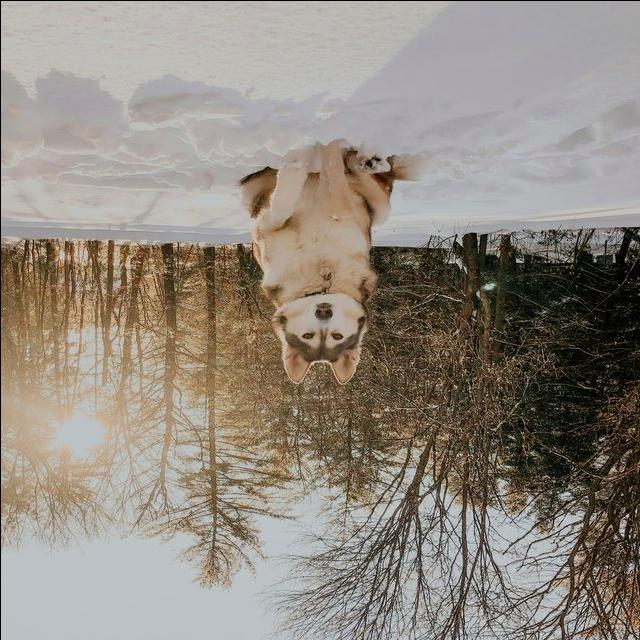husky: (238, 139, 423, 387)
